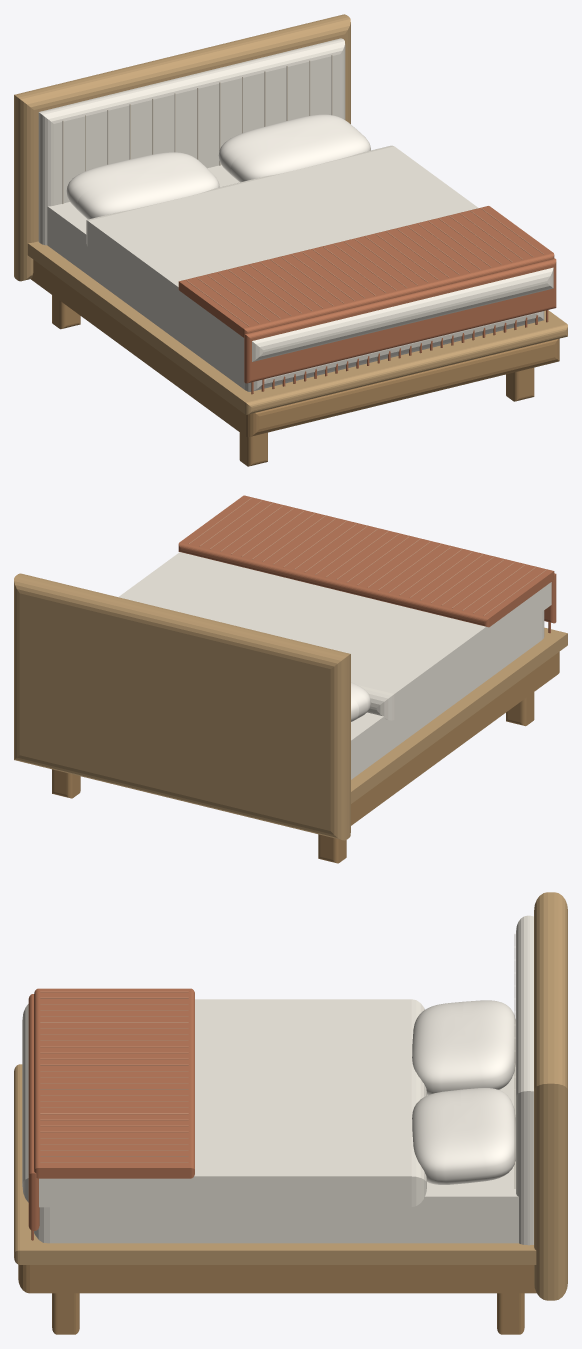
The model's file is bed.glb.
3 views of the same model, one above another, from view 1: azimuth 30°, elevation 25°; view 2: azimuth 150°, elevation 25°; view 3: azimuth 270°, elevation 25° (orthographic). The views are drawn at different scales.
Parts seen in each view (by area): view 1: Soft duvet, Linen headboard insert, Woven accent throw, Soft cream pillow (×2), Frame upper lip, Upholstered headboard, Solid oak frame, Mattress, Throw drape at foot, Oak leg (×3); view 2: Upholstered headboard, Soft duvet, Woven accent throw, Mattress, Frame upper lip, Solid oak frame, Oak leg (×3), Soft cream pillow; view 3: Soft duvet, Woven accent throw, Mattress, Soft cream pillow (×2), Solid oak frame, Upholstered headboard, Frame upper lip, Linen headboard insert, Oak leg (×2), Throw drape at foot.
Part boxes in pixels (left/top/right/bottom): Soft duvet: left=86, top=145, right=553, bottom=361; Linen headboard insert: left=38, top=38, right=345, bottom=245; Woven accent throw: left=178, top=206, right=554, bottom=337; Soft cream pillow (×2): left=66, top=114, right=370, bottom=219; Frame upper lip: left=27, top=241, right=567, bottom=414; Upholstered headboard: left=14, top=14, right=350, bottom=281; Solid oak frame: left=31, top=259, right=559, bottom=437; Mattress: left=47, top=165, right=544, bottom=391; Throw drape at foot: left=244, top=258, right=556, bottom=383; Oak leg (×3): left=52, top=295, right=534, bottom=466; Upholstered headboard: left=14, top=573, right=350, bottom=840; Soft duvet: left=118, top=552, right=551, bottom=720; Woven accent throw: left=178, top=495, right=554, bottom=627; Mattress: left=351, top=610, right=544, bottom=779; Frame upper lip: left=351, top=627, right=567, bottom=803; Solid oak frame: left=351, top=652, right=559, bottom=825; Oak leg (×3): left=52, top=692, right=534, bottom=863; Soft cream pillow: left=351, top=682, right=370, bottom=721; Soft duvet: left=22, top=999, right=426, bottom=1207; Woven accent throw: left=34, top=988, right=194, bottom=1178; Mattress: left=34, top=1065, right=518, bottom=1243; Soft cream pillow (×2): left=412, top=1000, right=515, bottom=1184; Solid oak frame: left=18, top=1264, right=536, bottom=1293; Upholstered headboard: left=534, top=892, right=567, bottom=1300; Frame upper lip: left=14, top=1064, right=536, bottom=1264; Linen headboard insert: left=516, top=915, right=533, bottom=1245; Oak leg (×2): left=52, top=1293, right=524, bottom=1334; Throw drape at foot: left=28, top=994, right=39, bottom=1230.
Size of the model in its own units: 2.14 by 1.38 by 2.62.
